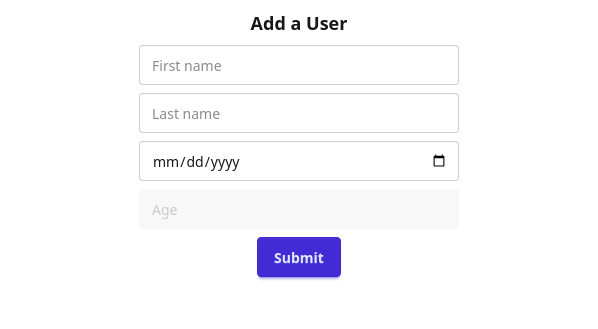
Test: AddUserForm › shows validation error when fields are missing or invalid
The image size is (598, 329).
Click the button "Submit".
click(299, 257)  # box 257,237 -> 341,277
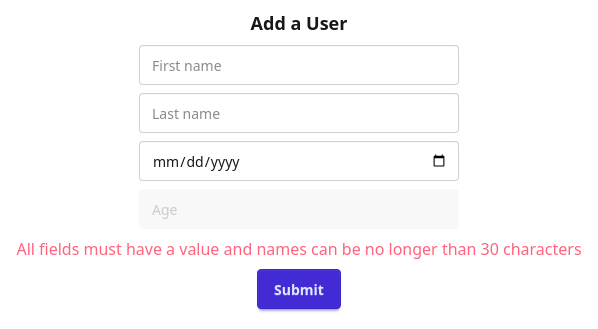
Result: the text "All fields must have a value and names can be no longer than 30 characters" is shown at 16,237 -> 582,261
